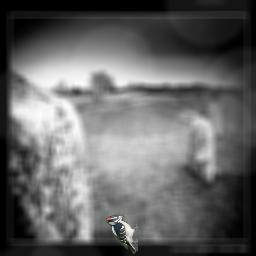Woodpecker: (106, 214, 138, 254)
